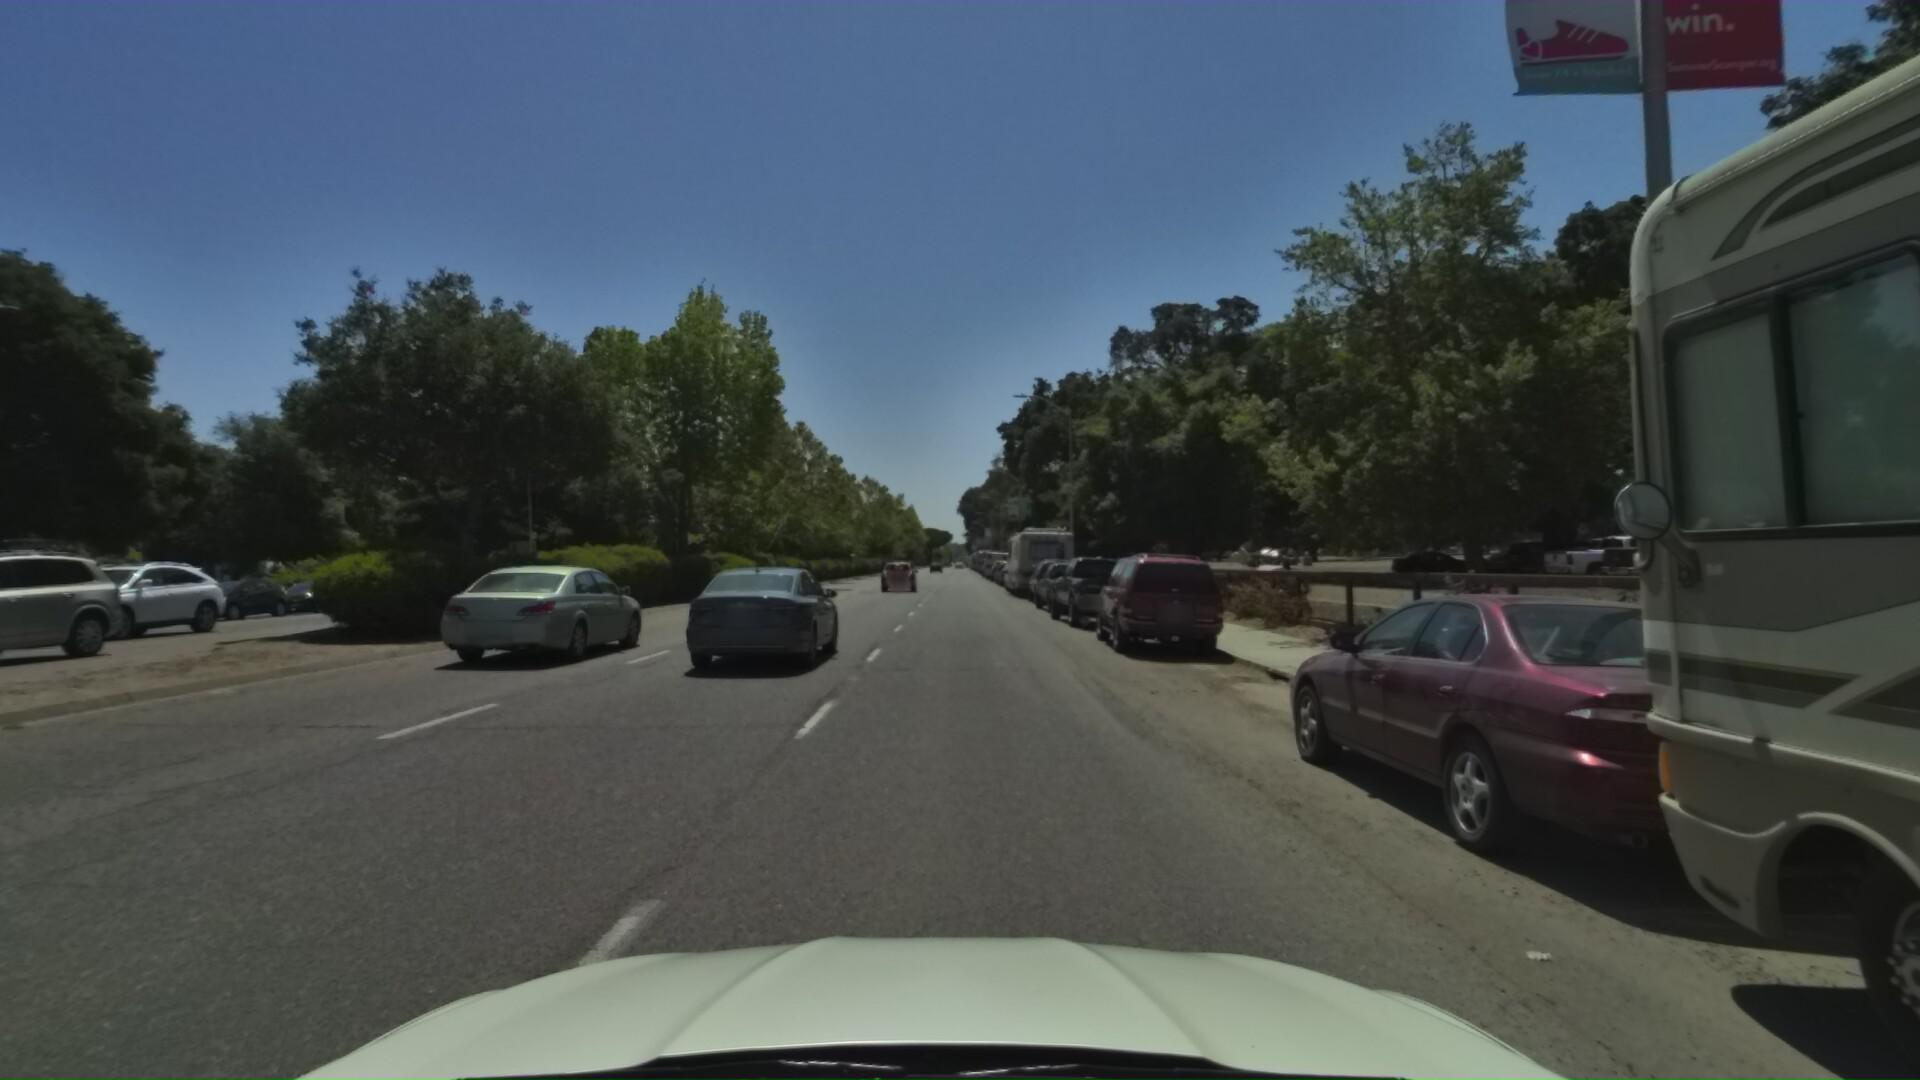car: (1267, 570, 1920, 989), (436, 559, 659, 673), (676, 556, 847, 682), (0, 554, 222, 647), (0, 529, 117, 694), (1087, 533, 1237, 655), (1043, 541, 1158, 624), (149, 571, 291, 626), (247, 570, 365, 618), (1029, 549, 1110, 607), (1023, 546, 1084, 597), (880, 553, 919, 588), (986, 547, 1014, 572)
other_vehicle: (1000, 512, 1081, 593), (981, 537, 1015, 572)
